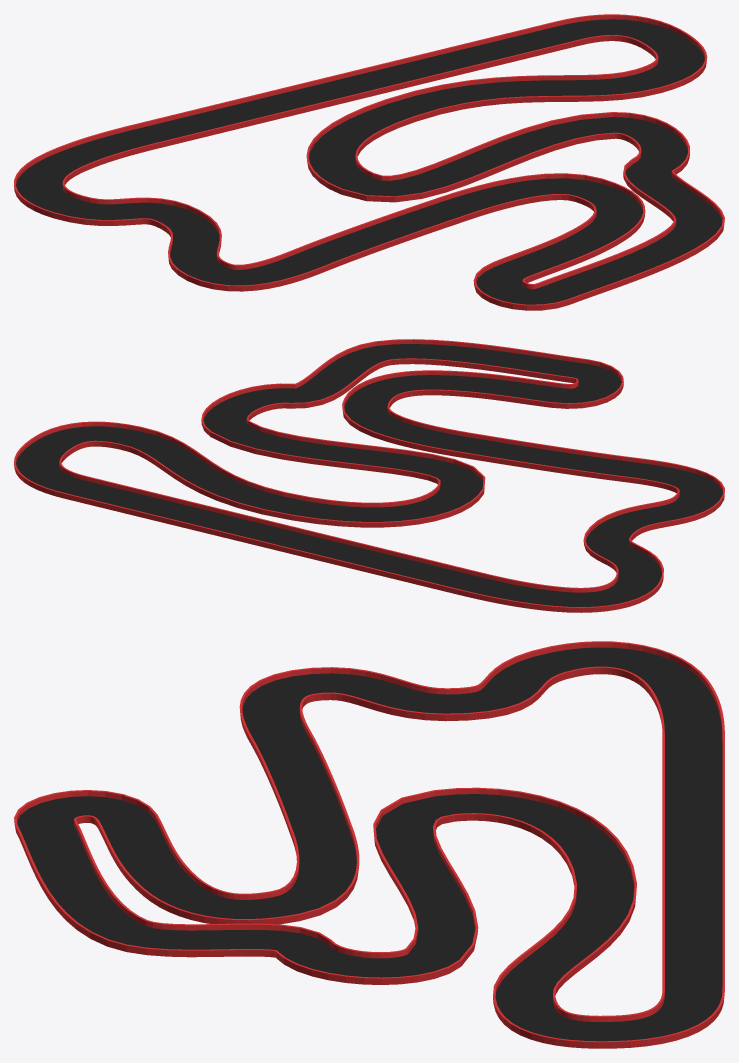
The model's file is flatTrack.fbx.
3 renders of one model, top to bottom at view 1: azimuth 30°, elevation 25°; view 2: azimuth 150°, elevation 25°; view 3: azimuth 270°, elevation 25°, orthographic. The views are drawn at different scales.
Visible parts, largest first — view 1: flat track; view 2: flat track; view 3: flat track.
Boxes of the visible parts, x1,y1,x2,y2 form: flat track: [14, 14, 724, 310]; flat track: [14, 339, 724, 612]; flat track: [14, 641, 724, 1048].
Size of the model in its own units: 49.44 by 37.04 by 0.4041.
